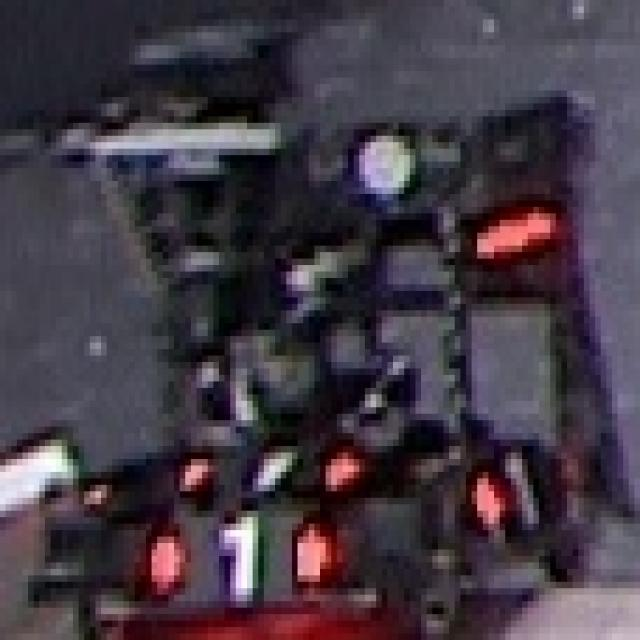R1: (135, 511, 337, 614), (163, 427, 376, 498), (460, 440, 567, 530)
